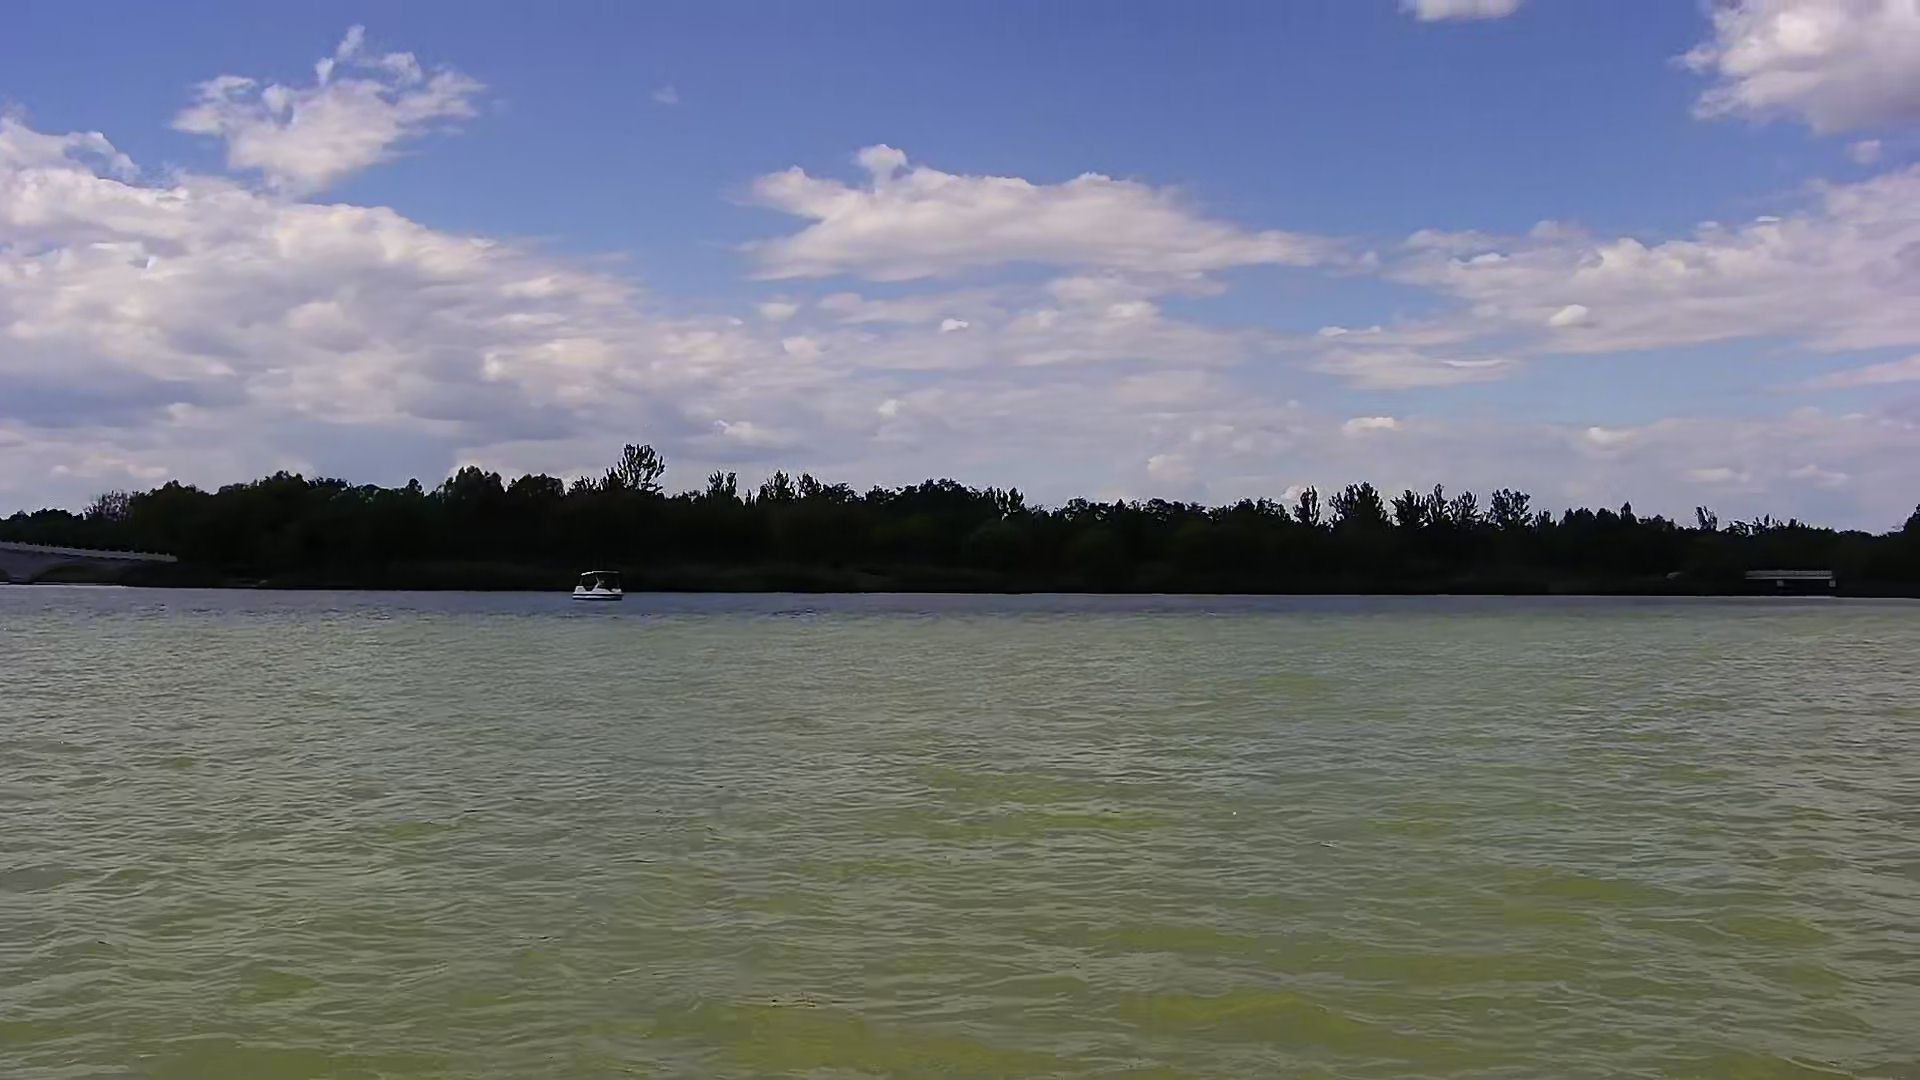boat: (564, 559, 637, 607)
